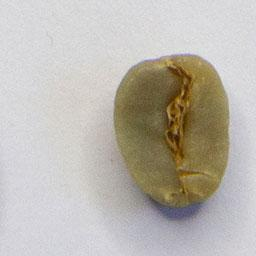premium: (109, 46, 234, 214)
